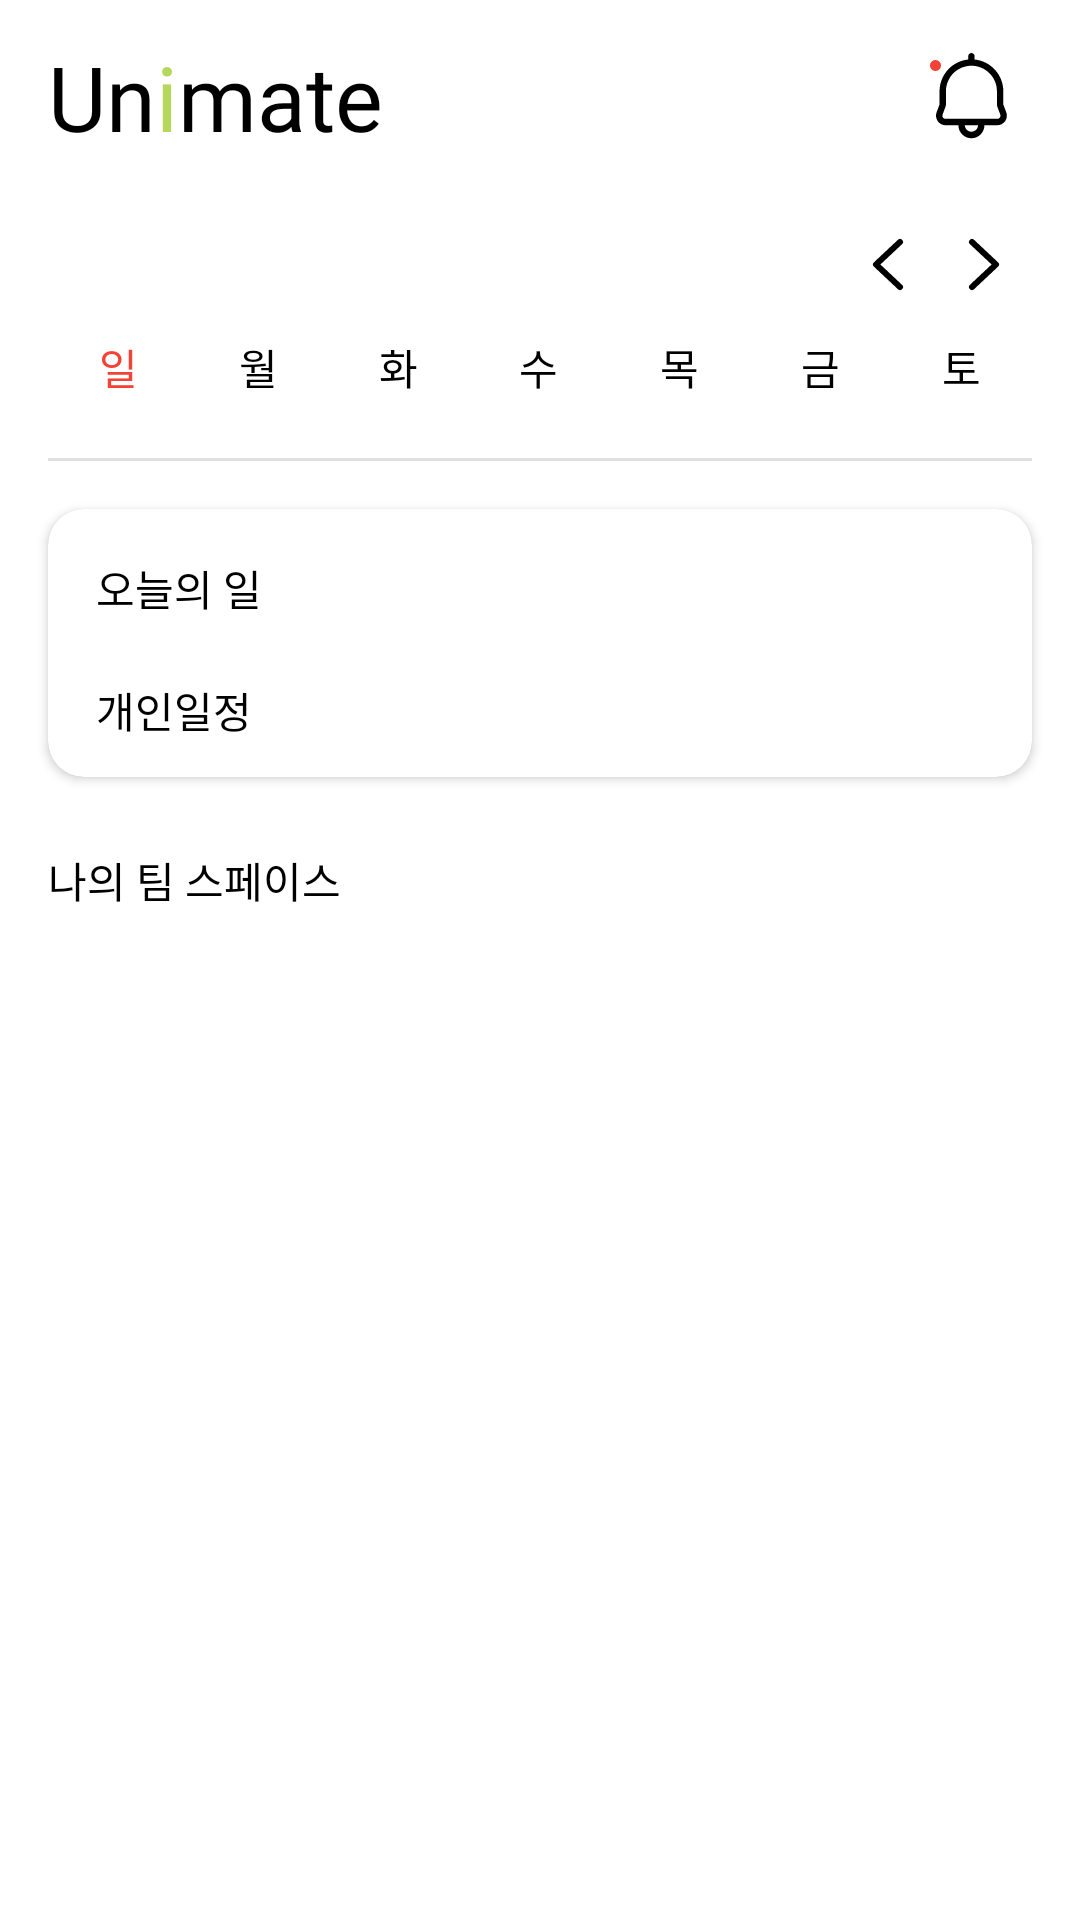

Locate icon controls on the screen. Image size 1080x1920, boxes as [x1,y1,x2,y2].
다음 주: [969,239,1000,290]
알림: [930,53,1007,139]
이전 주: [872,239,903,290]
